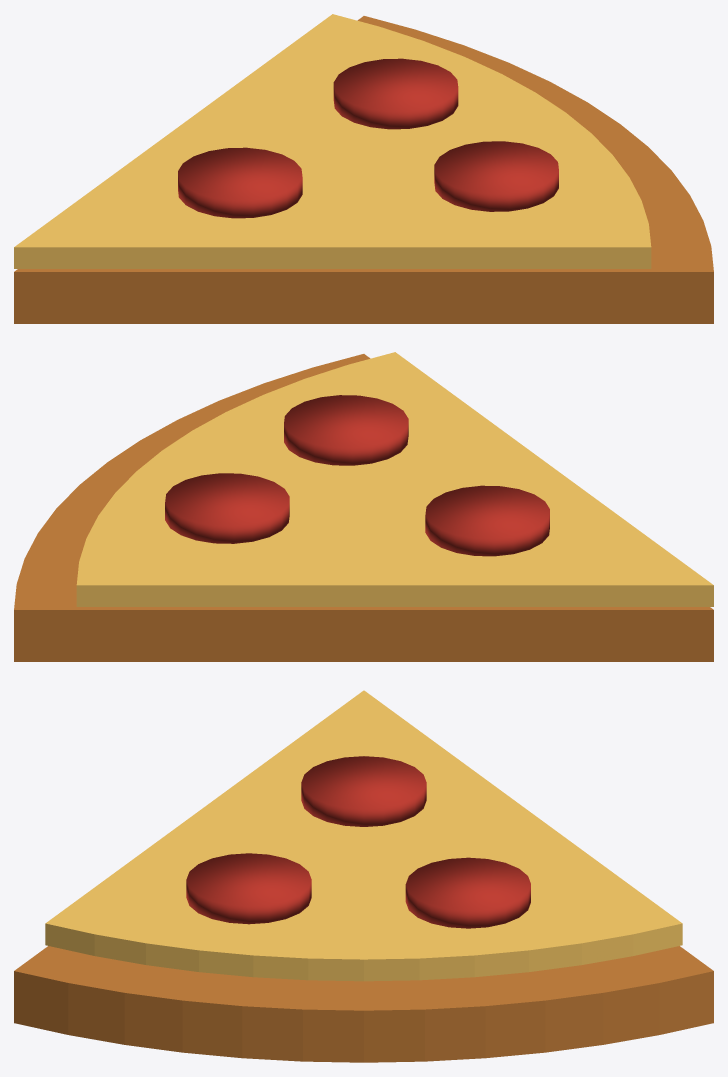
File: pizza-slice.glb
The picture shows the model from 3 angles, top to bottom: view 1: azimuth 30°, elevation 25°; view 2: azimuth 150°, elevation 25°; view 3: azimuth 270°, elevation 25°; orthographic projection.
Visible parts, largest first — view 1: Slice cheese, Slice crust, Pepperoni.002, Pepperoni, Pepperoni.001; view 2: Slice cheese, Slice crust, Pepperoni.001, Pepperoni, Pepperoni.002; view 3: Slice cheese, Slice crust, Pepperoni.002, Pepperoni.001, Pepperoni.
Boxes of the visible parts, x1=… form: Slice cheese: x1=14, y1=14, x2=651, y2=268; Slice crust: x1=14, y1=16, x2=713, y2=323; Pepperoni.002: x1=333, y1=58, x2=458, y2=129; Pepperoni: x1=178, y1=147, x2=302, y2=218; Pepperoni.001: x1=434, y1=141, x2=558, y2=211; Slice cheese: x1=76, y1=352, x2=713, y2=606; Slice crust: x1=14, y1=354, x2=713, y2=661; Pepperoni.001: x1=284, y1=395, x2=408, y2=465; Pepperoni: x1=425, y1=485, x2=549, y2=556; Pepperoni.002: x1=165, y1=473, x2=289, y2=543; Slice cheese: x1=45, y1=690, x2=682, y2=981; Slice crust: x1=14, y1=946, x2=713, y2=1062; Pepperoni.002: x1=405, y1=857, x2=530, y2=928; Pepperoni.001: x1=186, y1=853, x2=311, y2=924; Pepperoni: x1=301, y1=756, x2=426, y2=826.
Size of the model in its own units: 0.67 by 0.1 by 0.67.
